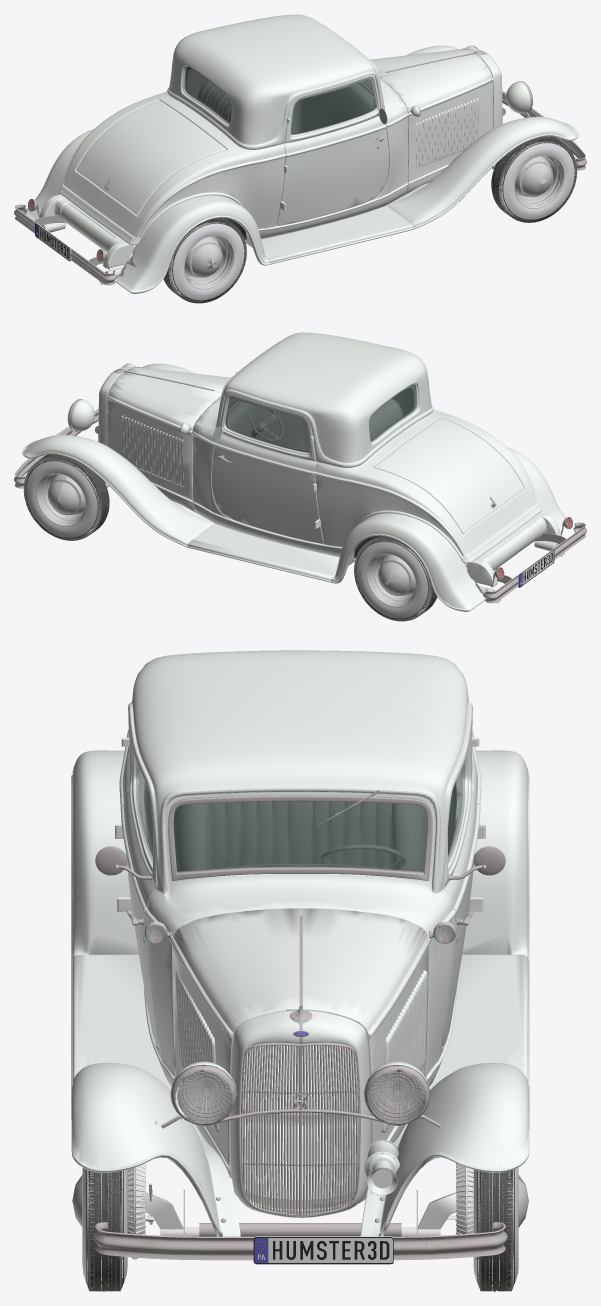
File: 1930s-ford-deuce-coupe.glb
3 renders of one model, top to bottom at view 1: azimuth 30°, elevation 25°; view 2: azimuth 150°, elevation 25°; view 3: azimuth 270°, elevation 25°, orthographic. The views are drawn at different scales.
Parts seen in each view (by area): view 1: Object_10, Object_12, Object_13, Object_11; view 2: Object_10, Object_12, Object_13, Object_11; view 3: Object_10, Object_12, Object_13, Object_11.
Part boxes in pixels (bbox=[...]): Object_10: bbox=[14, 14, 586, 293]; Object_12: bbox=[28, 25, 577, 303]; Object_13: bbox=[291, 78, 375, 134]; Object_11: bbox=[28, 66, 420, 260]; Object_10: bbox=[14, 332, 586, 611]; Object_12: bbox=[23, 363, 572, 621]; Object_13: bbox=[225, 396, 309, 452]; Object_11: bbox=[67, 384, 572, 578]; Object_10: bbox=[71, 650, 529, 1264]; Object_12: bbox=[72, 737, 528, 1291]; Object_13: bbox=[136, 762, 464, 872]; Object_11: bbox=[146, 925, 454, 1122].
Size of the model in its own units: 4.2 by 1.57 by 1.72.
Materials: 4 (4 with a texture image).
